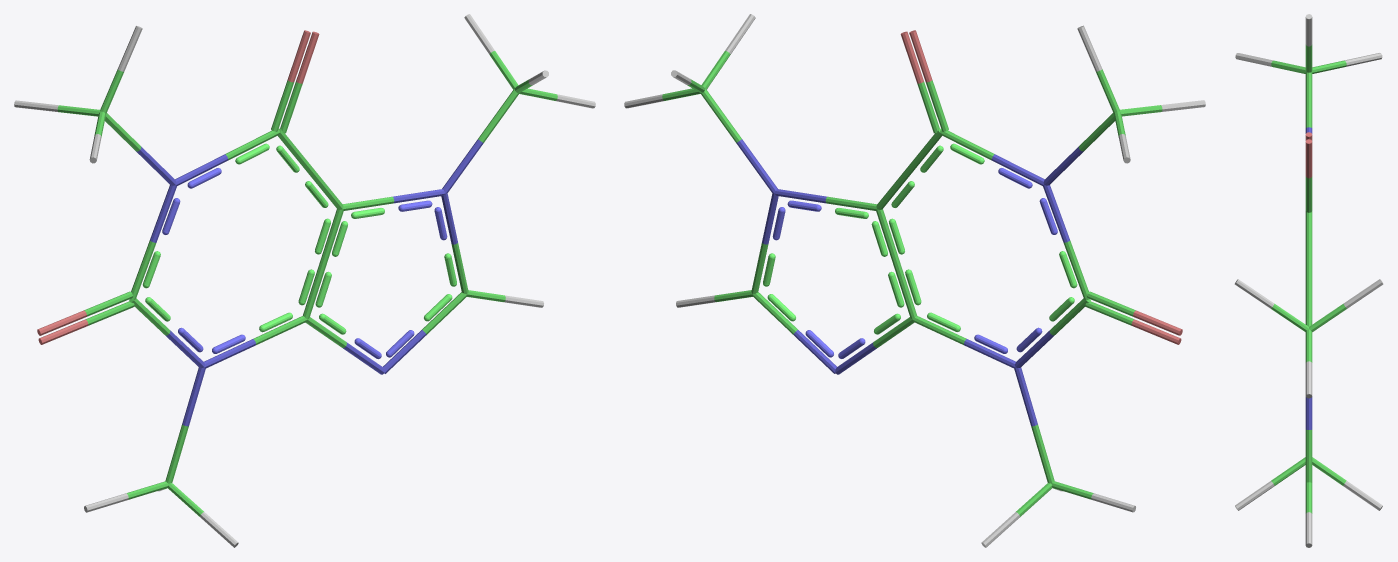
File: caffeine__lines__default.glb
The picture shows the model from 3 angles, left to right: view 1: azimuth 30°, elevation 25°; view 2: azimuth 150°, elevation 25°; view 3: azimuth 270°, elevation 25°; orthographic projection. The views are drawn at different scales.
Parts seen in each view (by area): view 1: Renderer Node; view 2: Renderer Node; view 3: Renderer Node.
Part boxes in pixels (x1,y1,x2,y2): Renderer Node: (14,14,595,547); Renderer Node: (624,14,1205,547); Renderer Node: (1234,14,1383,547).
Size of the model in its own units: 7.36 by 6.42 by 1.85.
